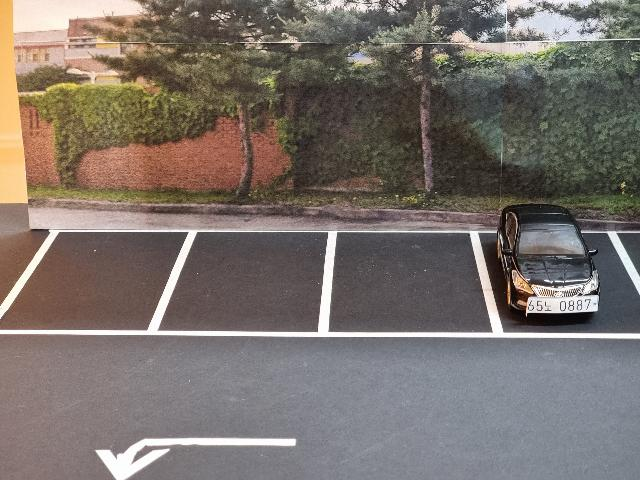empty: (152, 229, 340, 345), (316, 221, 494, 341), (3, 222, 171, 344)
occupied: (484, 202, 606, 326)
